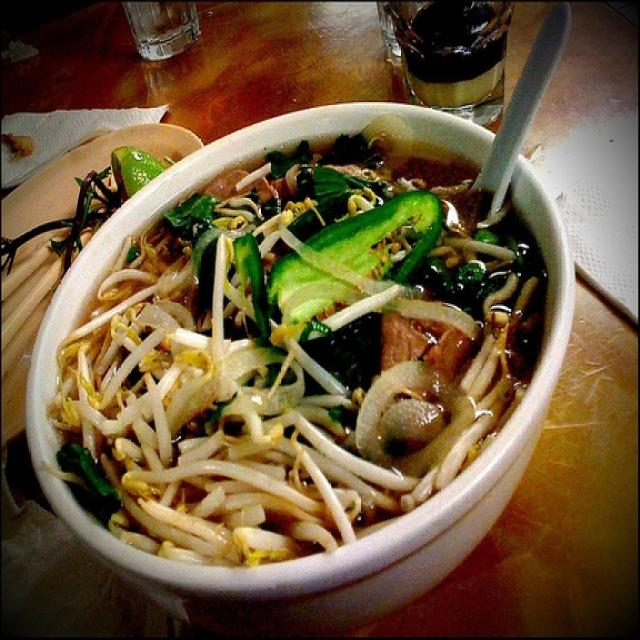面条主食: (30, 100, 561, 581)
